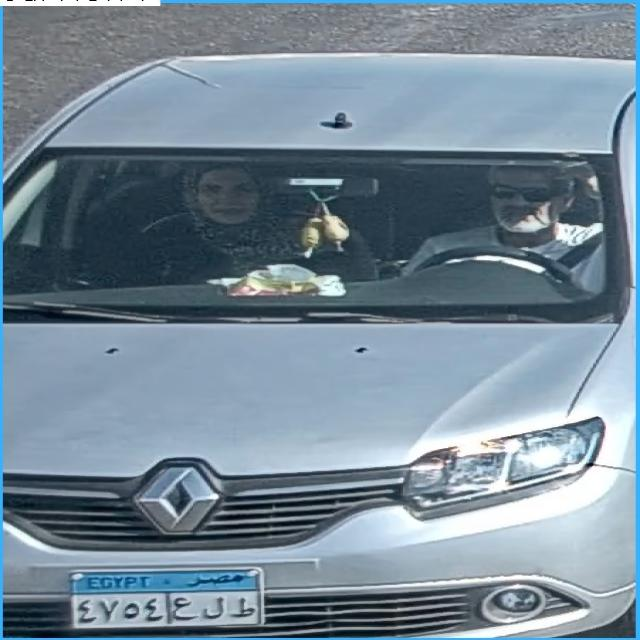windshield: (3, 150, 626, 318)
